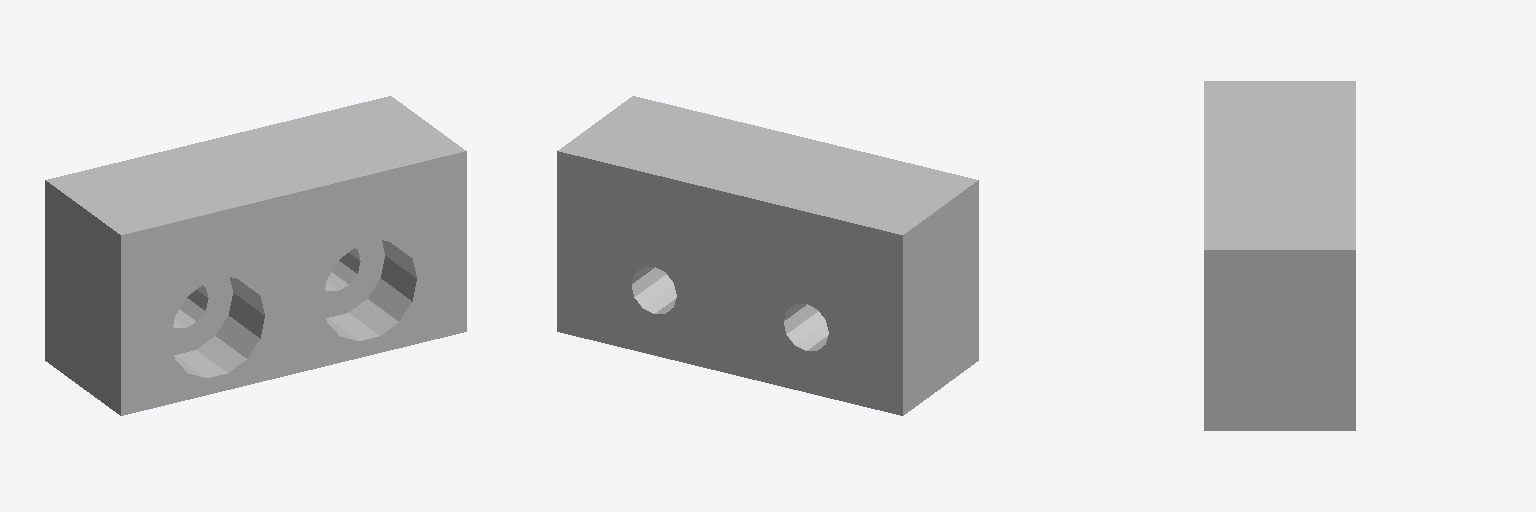
Rendered from external_retaining_ring_holder2.obj.
3 renders of one model, left to right at view 1: azimuth 30°, elevation 25°; view 2: azimuth 150°, elevation 25°; view 3: azimuth 270°, elevation 25°, orthographic.
Parts seen in each view (by area): view 1: 1; view 2: 1; view 3: 1.
Part boxes in pixels (bbox=[...]): 1: bbox=[45, 96, 466, 415]; 1: bbox=[557, 96, 978, 415]; 1: bbox=[1204, 81, 1355, 430].
Bounding box in the file's own units: 25 × 12.5 × 9.47.